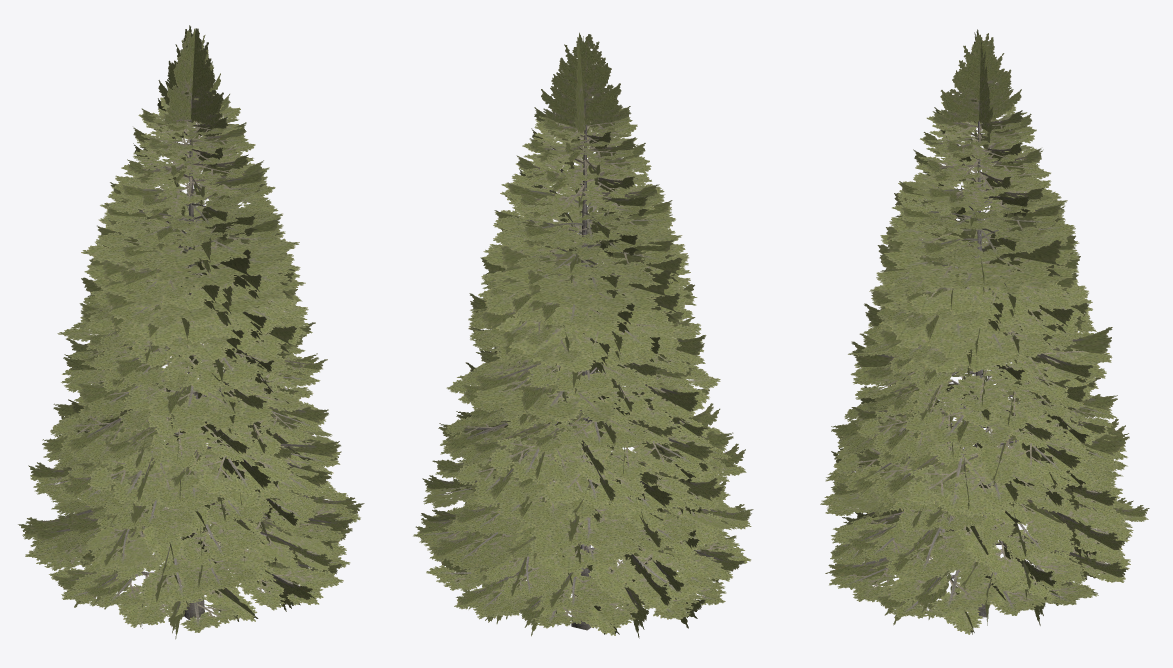
Rendered from PiceaAbies.glb.
The picture shows the model from 3 angles, left to right: view 1: azimuth 30°, elevation 25°; view 2: azimuth 150°, elevation 25°; view 3: azimuth 270°, elevation 25°; orthographic projection.
Parts seen in each view (by area): view 1: Norway_Spruce__Realistic_LOD3; view 2: Norway_Spruce__Realistic_LOD3; view 3: Norway_Spruce__Realistic_LOD3.
Part boxes in pixels (x1,y1,x2,y2): Norway_Spruce__Realistic_LOD3: (18,25,364,639); Norway_Spruce__Realistic_LOD3: (413,32,753,638); Norway_Spruce__Realistic_LOD3: (820,29,1149,634).
Size of the model in its own units: 14.36 by 25.71 by 14.42.
Materials: 1 (1 with a texture image).
